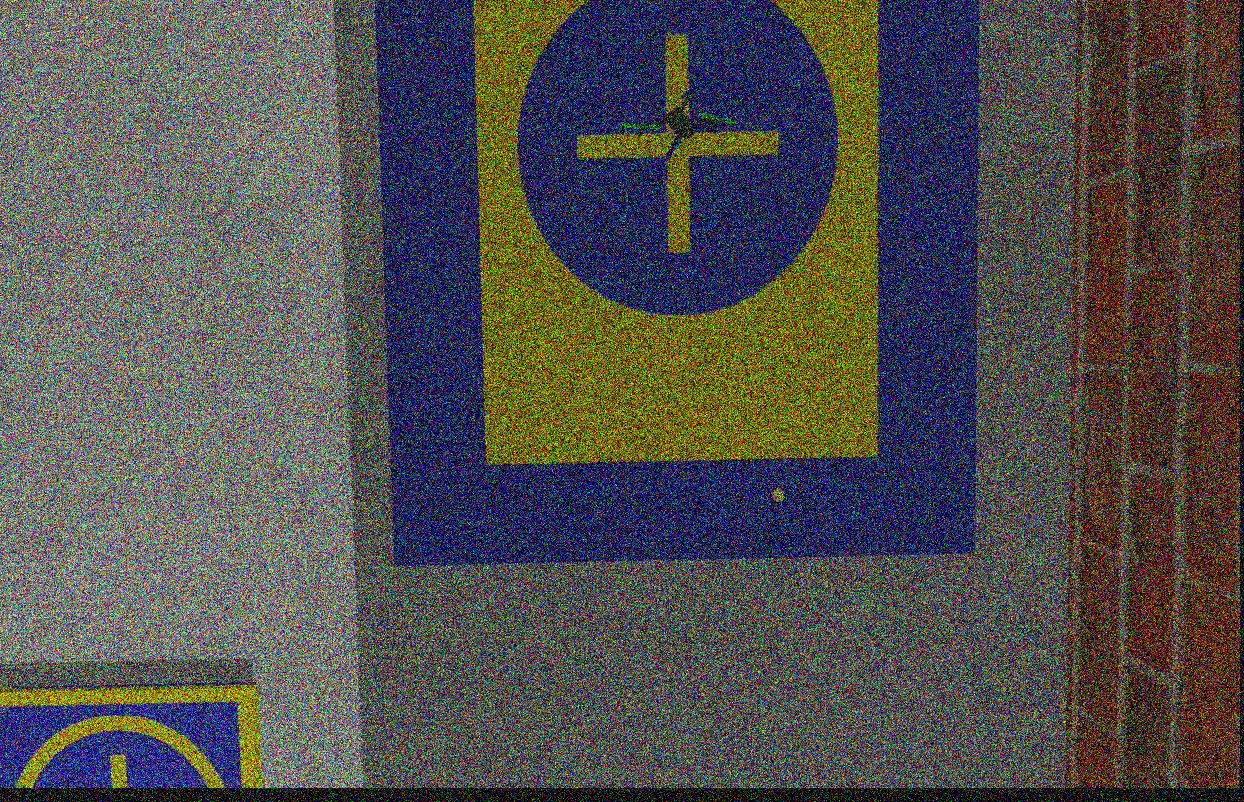large_base: (374, 1, 978, 567)
small_base: (0, 681, 260, 791)
